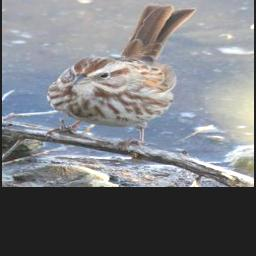Sparrow: (43, 2, 199, 153)
